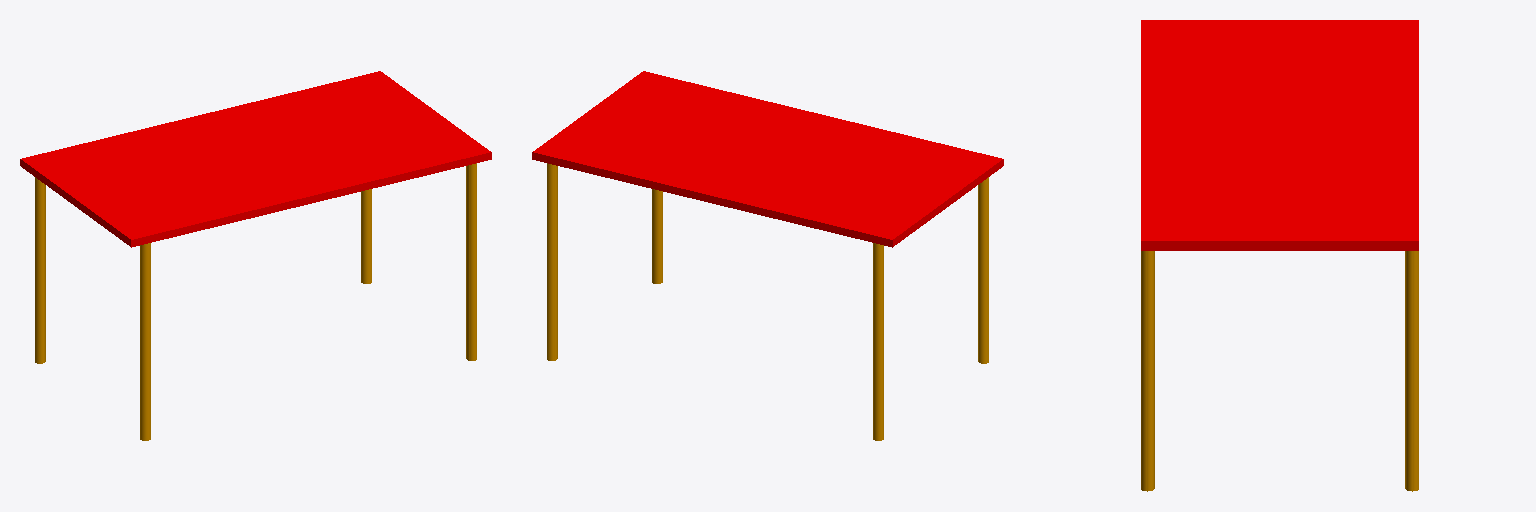
robot.urdf — table:
<?xml version="1.0" ?>
<robot name="table">
  <link name="table_link">
    <inertial>
      <mass value="0"/>
      <origin rpy="0 0 0" xyz="0 0 0"/>
      <inertia ixx="0" ixy="0" ixz="0" iyy="0" iyz="0" izz="0"/>
    </inertial>
    <collision name="table_surface">
      <origin rpy="0 0 0" xyz="0 0 0.8"/>
      <geometry>
        <box size="1.5 0.8 0.03"/>
      </geometry>
    </collision>
    <collision name="table_front_left_leg">
      <origin rpy="0 0 0" xyz="0.68 0.38 0.4"/>
      <geometry>
        <cylinder length="0.8" radius="0.02"/>
      </geometry>
    </collision>
    <collision name="table_front_right_leg">
      <origin rpy="0 0 0" xyz="0.68 -0.38 0.4"/>
      <geometry>
        <cylinder length="0.8" radius="0.02"/>
      </geometry>
    </collision>
    <collision name="table_back_right_leg">
      <origin rpy="0 0 0" xyz="-0.68 -0.38 0.4"/>
      <geometry>
        <cylinder length="0.8" radius="0.02"/>
      </geometry>
    </collision>
    <collision name="table_back_left_leg">
      <origin rpy="0 0 0" xyz="-0.68 0.38 0.4"/>
      <geometry>
        <cylinder length="0.8" radius="0.02"/>
      </geometry>
    </collision>
    <visual>
      <origin rpy="0 0 0" xyz="0 0 0.8"/>
      <geometry>
        <box size="1.5 0.8 0.03"/>
      </geometry>
		  <material name="Wood">
		    <color rgba="1.0 0.0 0.0 1.0"/>
		    <texture filename="model://ur_description/material/gazebo.material" />
		  </material>
    </visual>
    <visual>
      <origin rpy="0 0 0" xyz="0.68 0.38 0.4"/>
      <geometry>
        <cylinder length="0.8" radius="0.02"/>
      </geometry>
    </visual>
    <visual>
      <origin rpy="0 0 0" xyz="0.68 -0.38 0.4"/>
      <geometry>
        <cylinder length="0.8" radius="0.02"/>
      </geometry>
    </visual>
    <visual>
      <origin rpy="0 0 0" xyz="-0.68 -0.38 0.4"/>
      <geometry>
        <cylinder length="0.8" radius="0.02"/>
      </geometry>
    </visual>
    <visual>
      <origin rpy="0 0 0" xyz="-0.68 0.38 0.4"/>
      <geometry>
        <cylinder length="0.8" radius="0.02"/>
      </geometry>
    </visual>
  </link>

	<gazebo reference="table_link">
		<material>Gazebo/Wood</material>
	</gazebo>

</robot>

--- Render facts (derived) ---
3 views of the same robot in one strip: view 1: azimuth 30°, elevation 25°; view 2: azimuth 150°, elevation 25°; view 3: azimuth 270°, elevation 25° (orthographic).
Robot: table — 1 links, 0 joints (none); root link table_link; default pose: every joint at zero.
Visible links, largest first — view 1: table_link; view 2: table_link; view 3: table_link.
Link boxes in pixels (x1,y1,x2,y2): table_link: (20,71,491,440); table_link: (532,71,1003,440); table_link: (1141,20,1418,491).
Bounding box of the posed robot: 1.5 × 0.8 × 0.815 m (x, y, z).
Geometry: primitives only (box / cylinder / sphere), no mesh files.